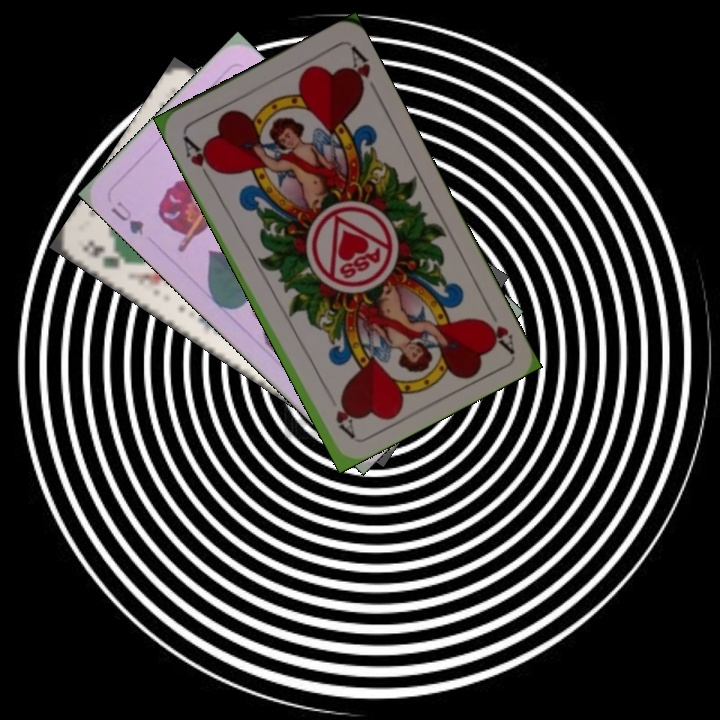GK: (78, 235, 137, 272)
GU: (107, 197, 147, 238)
HA: (477, 299, 517, 354), (179, 131, 220, 184)
